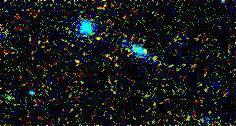star: (81, 29, 111, 59)
